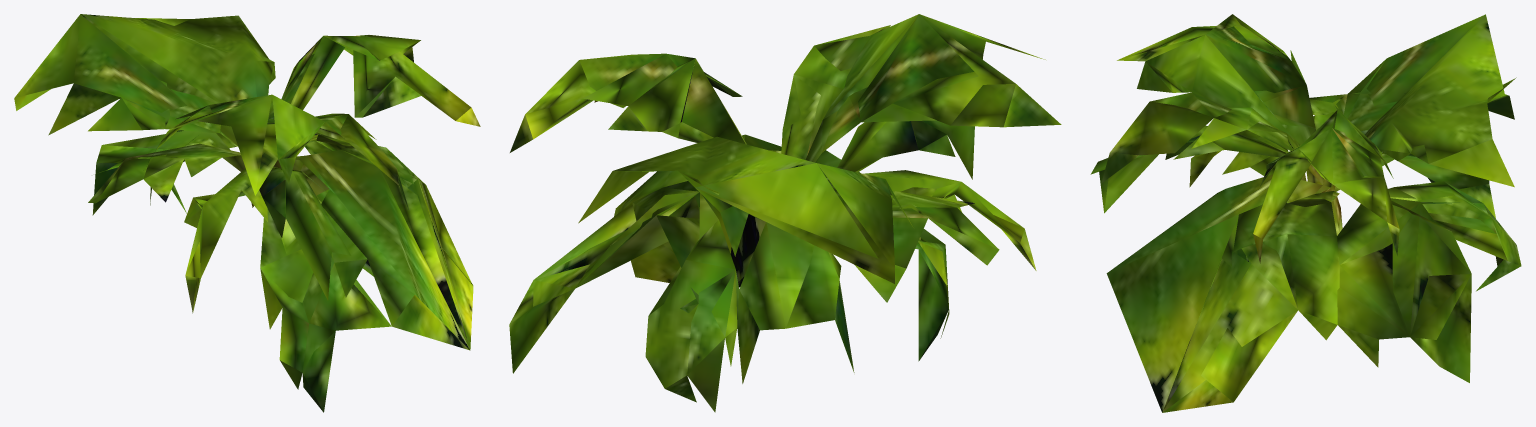
Rendered from palm-far.glb.
3 views of the same model, side by side, from view 1: azimuth 30°, elevation 25°; view 2: azimuth 150°, elevation 25°; view 3: azimuth 270°, elevation 25° (orthographic). The views are drawn at different scales.
Visible parts, largest first — view 1: palm-far; view 2: palm-far; view 3: palm-far.
Boxes of the visible parts, x1=… form: palm-far: x1=14, y1=14, x2=480, y2=412; palm-far: x1=509, y1=14, x2=1061, y2=412; palm-far: x1=1090, y1=14, x2=1521, y2=412.
Bounding box in the file's own units: 3.39 × 2.76 × 3.45.
Materials: 1 (1 with a texture image).
